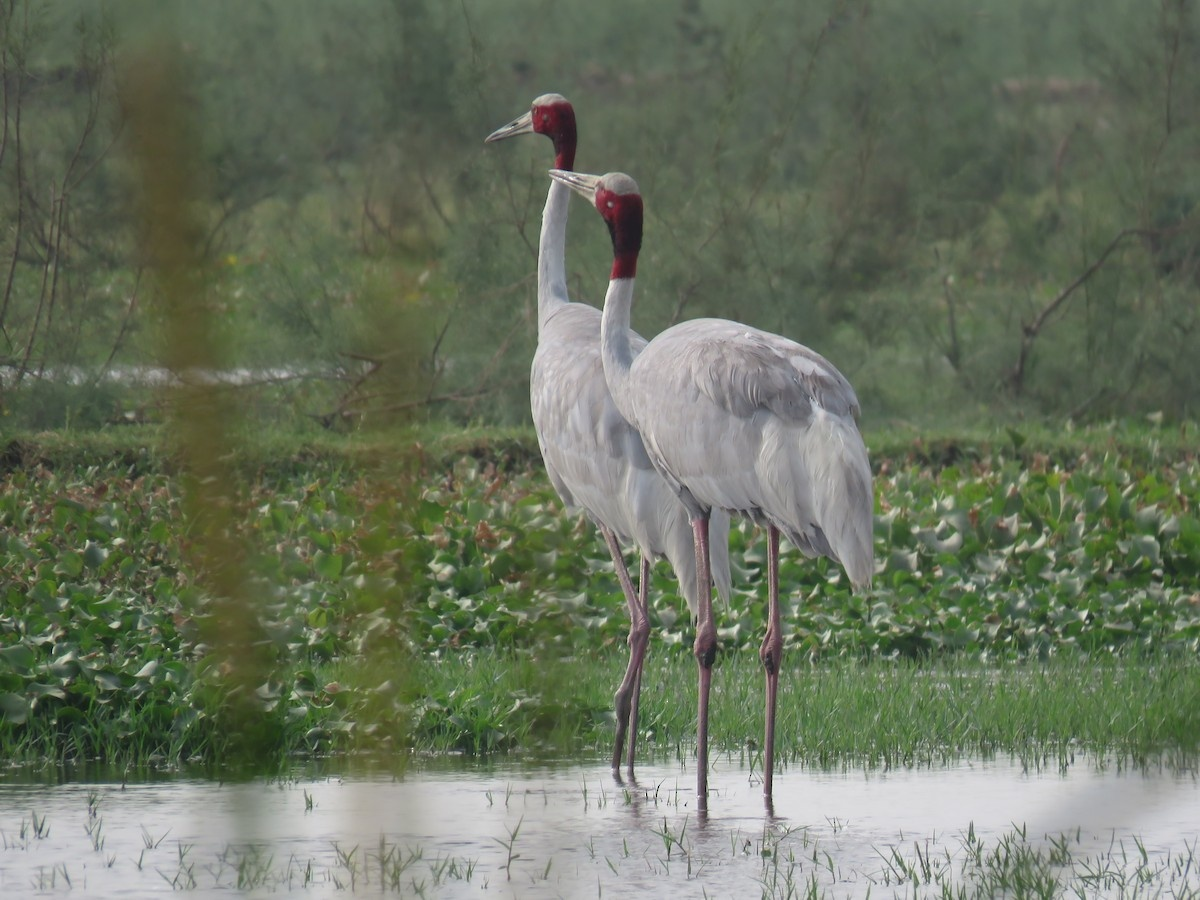crane: (548, 154, 950, 840), (478, 59, 601, 475)
